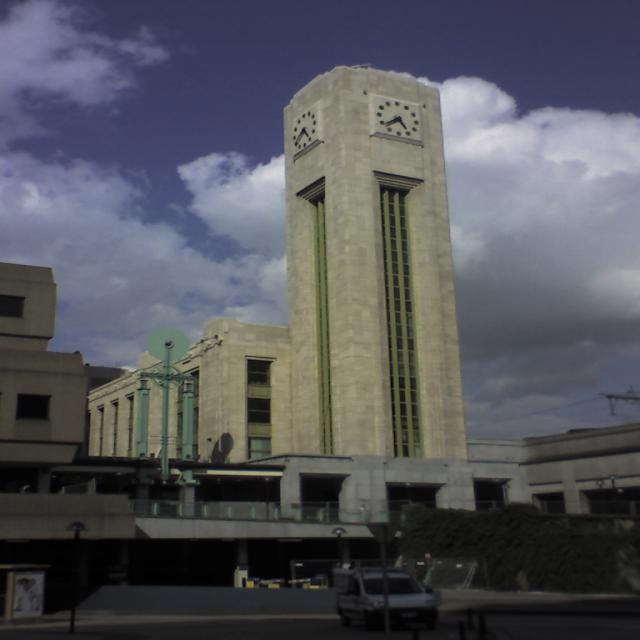car: (329, 558, 450, 631)
